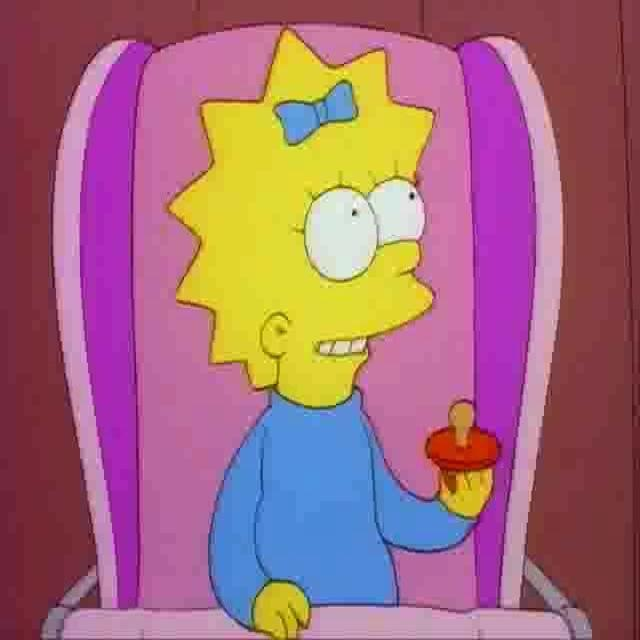Maggie Simpson: (166, 24, 440, 413)
